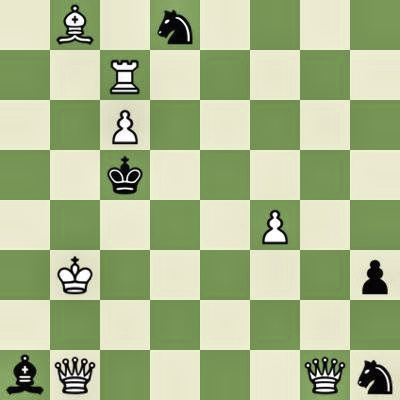black-bishop: (0, 350, 50, 400)
black-king: (100, 150, 150, 200)
black-knight: (150, 0, 200, 50), (350, 350, 400, 400)
black-pawn: (350, 250, 400, 300)
white-bishop: (50, 0, 100, 50)
white-king: (50, 250, 100, 300)
white-pawn: (100, 100, 150, 150), (250, 200, 300, 250)
white-queen: (50, 350, 100, 400), (300, 350, 350, 400)
white-rook: (100, 50, 150, 100)
